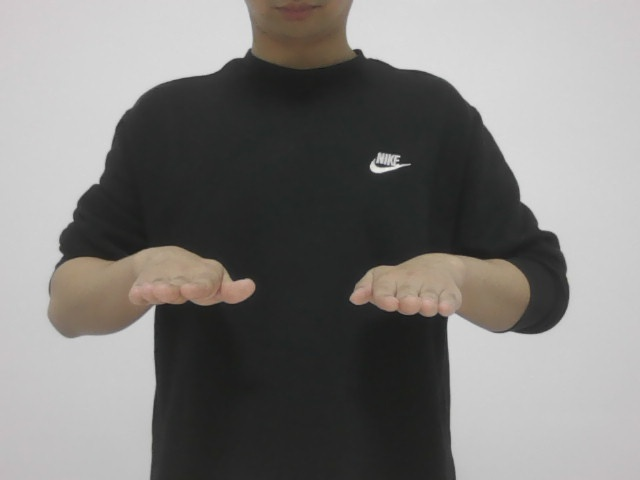flat: (117, 234, 465, 323)
